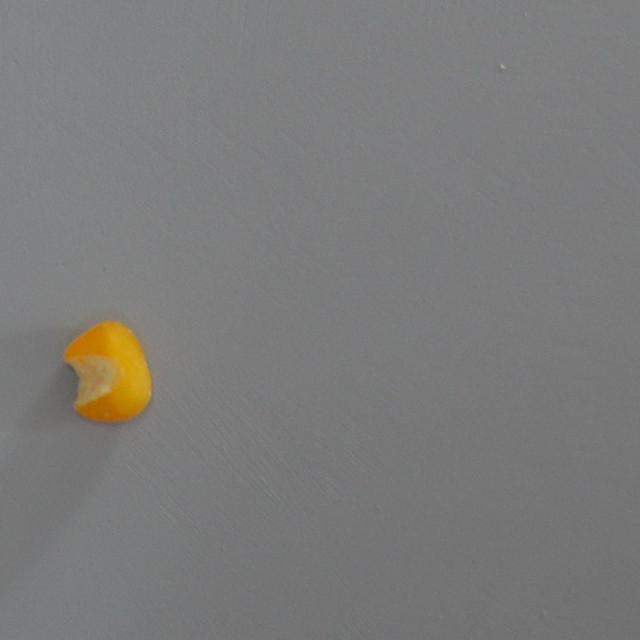no_canjicado: (63, 320, 154, 422)
